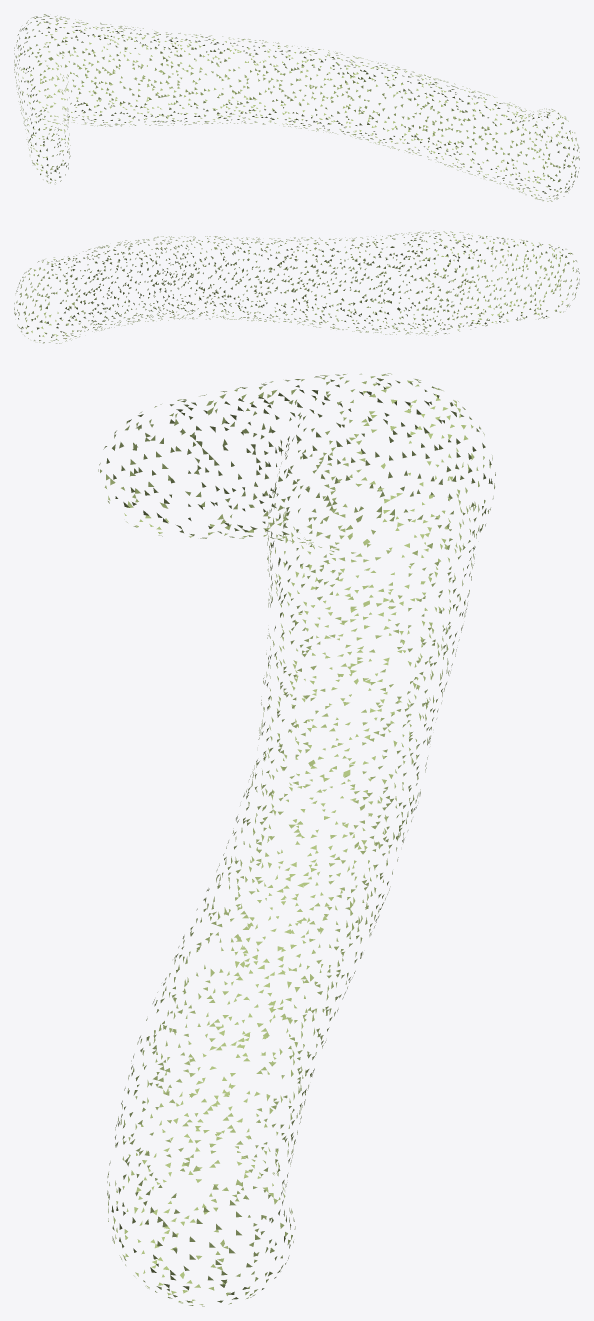
The model's file is morph_011.glb.
The picture shows the model from 3 angles, top to bottom: view 1: azimuth 30°, elevation 25°; view 2: azimuth 150°, elevation 25°; view 3: azimuth 270°, elevation 25°; orthographic projection. The views are drawn at different scales.
Size of the model in its own units: 137 by 60.93 by 44.51.
